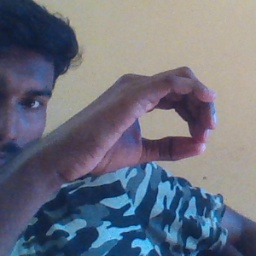O: (71, 57, 221, 176)
